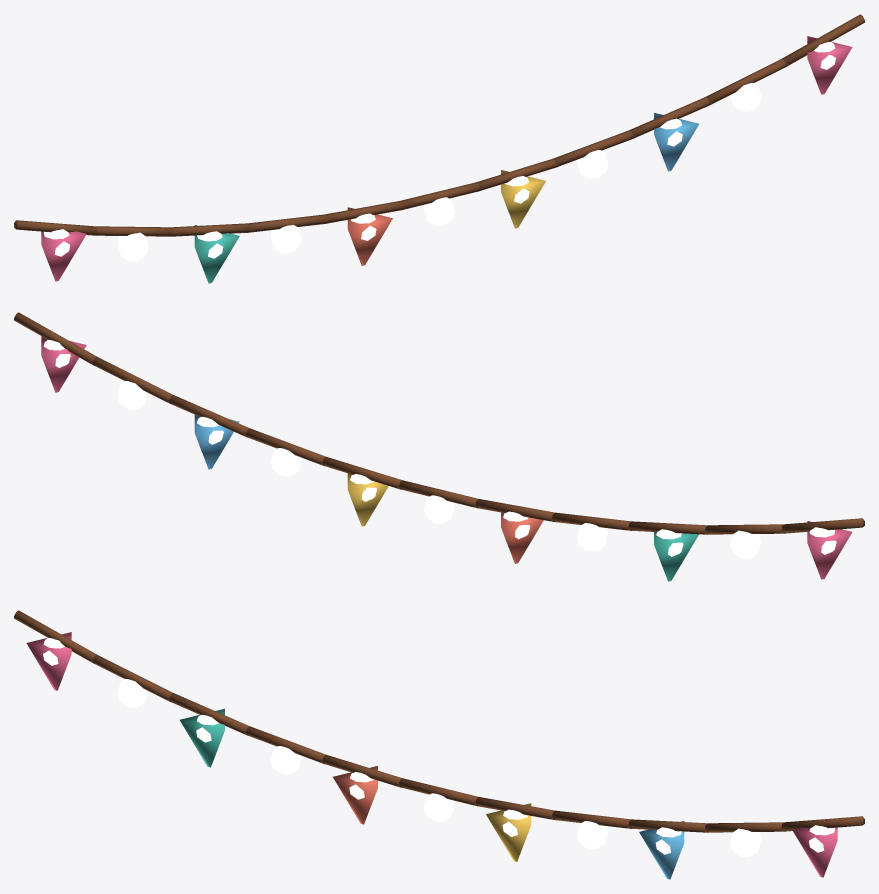
Rendered from FestoonLights.fbx.
The picture shows the model from 3 angles, top to bottom: view 1: azimuth 30°, elevation 25°; view 2: azimuth 150°, elevation 25°; view 3: azimuth 330°, elevation 25°; orthographic projection.
Visible parts, largest first — view 1: FestoonLights; view 2: FestoonLights; view 3: FestoonLights.
Part boxes in pixels (box(x1,y1,x2,y2)): FestoonLights: box(14, 14, 864, 283); FestoonLights: box(14, 312, 864, 581); FestoonLights: box(14, 610, 864, 879).
Bounding box in the file's own units: 4.53 × 0.6557 × 0.215.
